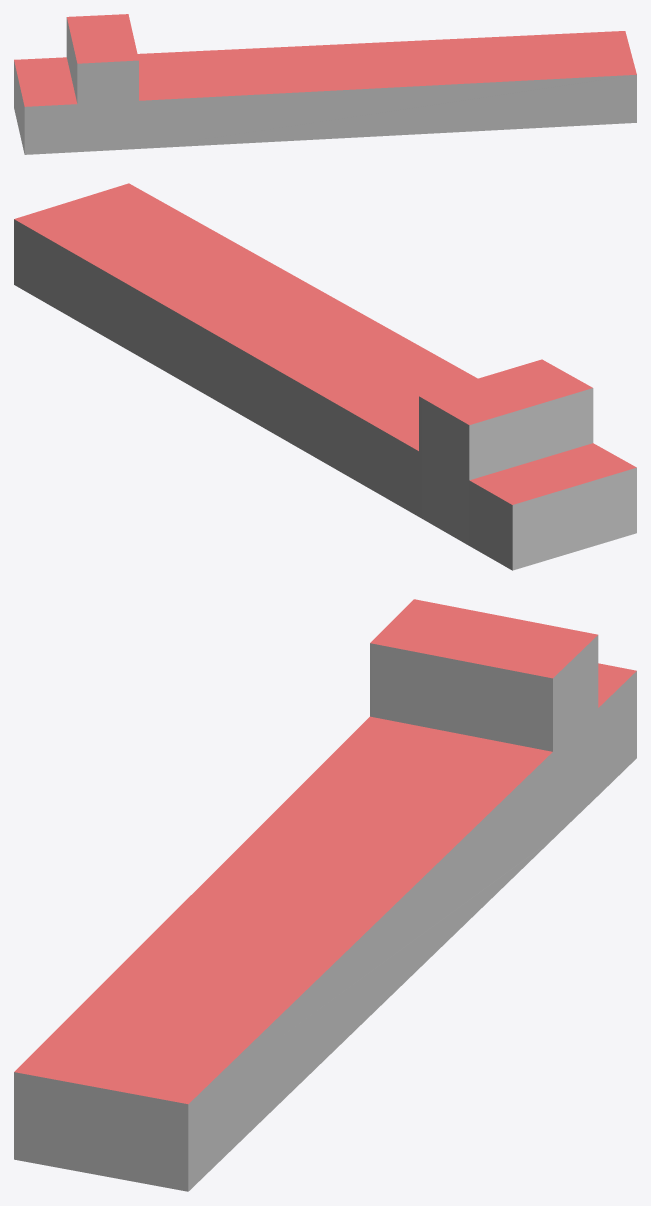
Rendered from DEBY_LOD2_4908057.gltf.
The picture shows the model from 3 angles, top to bottom: view 1: azimuth 30°, elevation 25°; view 2: azimuth 150°, elevation 25°; view 3: azimuth 270°, elevation 25°; orthographic projection. The views are drawn at different scales.
Parts seen in each view (by area): view 1: Z_UP; view 2: Z_UP; view 3: Z_UP.
Part boxes in pixels (<box>): Z_UP: <box>14,14,636,154</box>; Z_UP: <box>14,183,636,570</box>; Z_UP: <box>14,599,636,1191</box>.
Bounding box in the file's own units: 31.77 × 5.08 × 17.82.
